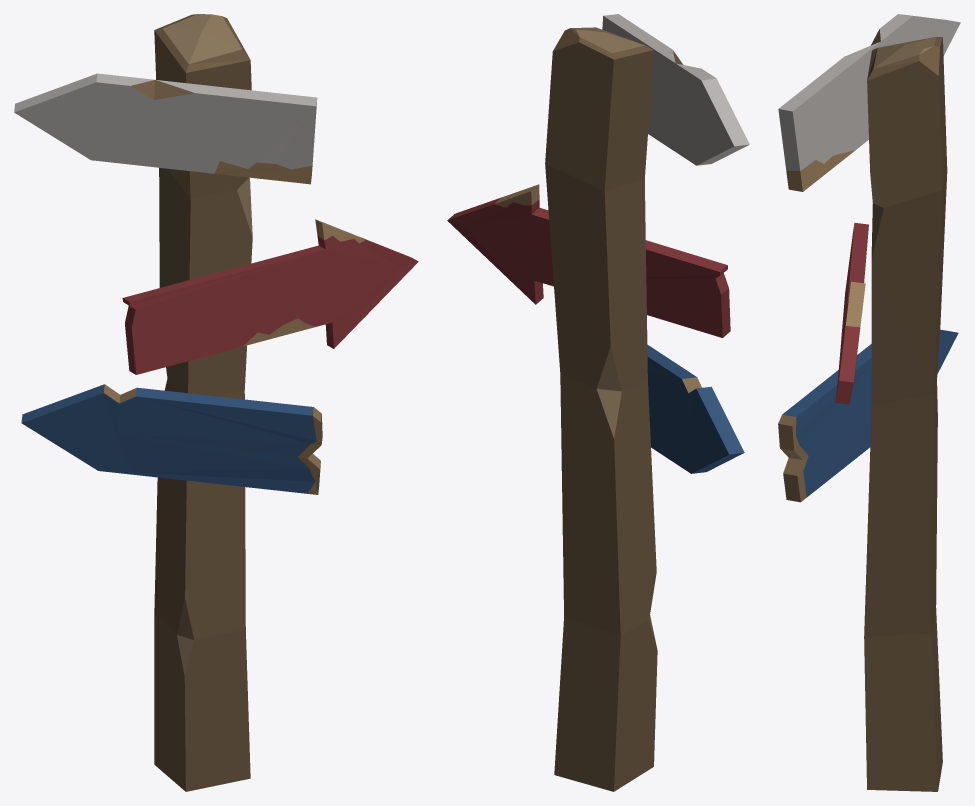
Rendered from roadsign.glb.
The picture shows the model from 3 angles, left to right: view 1: azimuth 30°, elevation 25°; view 2: azimuth 150°, elevation 25°; view 3: azimuth 270°, elevation 25°; orthographic projection.
Parts seen in each view (by area): view 1: SM_Prop_RoadSign_01; view 2: SM_Prop_RoadSign_01; view 3: SM_Prop_RoadSign_01.
Part boxes in pixels (<box>): SM_Prop_RoadSign_01: <box>14,14,418,791</box>; SM_Prop_RoadSign_01: <box>447,14,749,791</box>; SM_Prop_RoadSign_01: <box>778,14,960,791</box>.
Bounding box in the file's own units: 116 × 235 × 52.99.
1 material, 1 textured.
